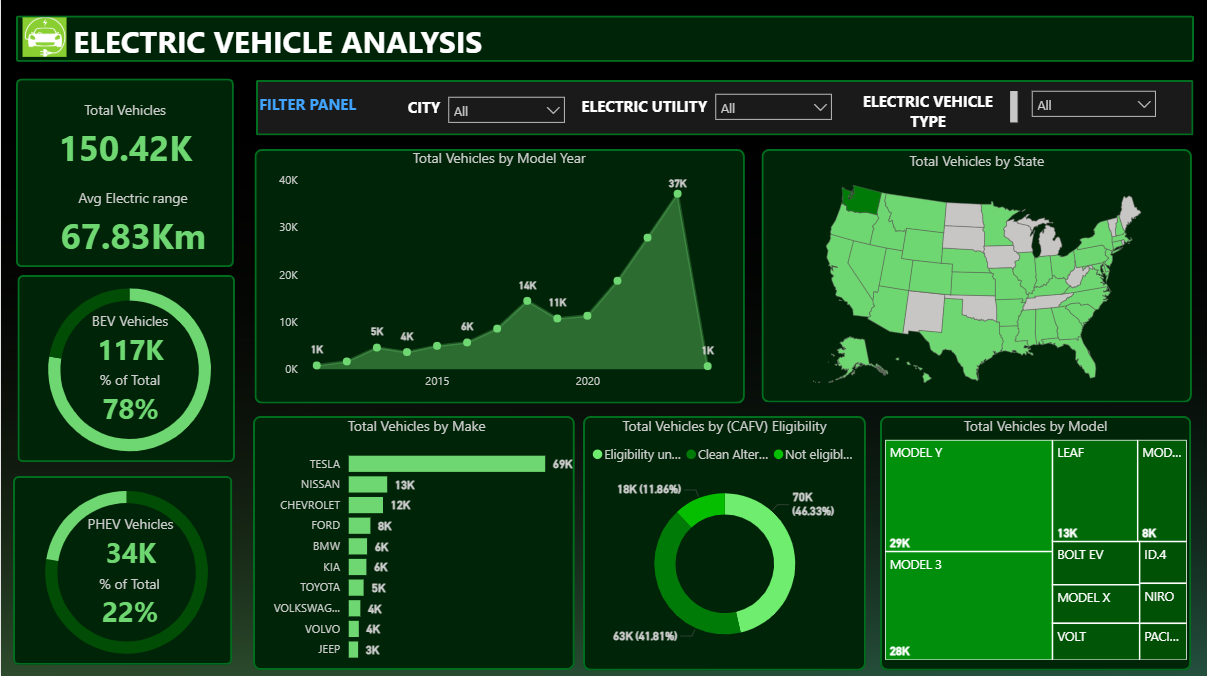

What the dashboard file says about the page in this screenshot:
{"tool":"powerbi","page":{"name":"Page 1","canvas":[1280,720],"ordinal":0},"visuals":[{"type":"shape","box":[15.1,17,1249.1,49.1],"z":0},{"type":"textbox","box":[71.8,17,457.3,54.8],"z":1000},{"type":"shape","box":[15.1,85,231,200],"z":2000},{"type":"card","title":"Total Vehicles","fields":{"Values":["Electric_Vehicle_Population_Data.Total Vehicles"]},"box":[24.6,105.8,215.4,79.4],"z":3000},{"type":"shape","box":[13.2,506.5,232.4,200.3],"z":4000},{"type":"shape","box":[17,292.9,230.6,198.4],"z":5000},{"type":"card","title":"Avg Electric range","fields":{"Values":["Electric_Vehicle_Population_Data.Average Range"]},"box":[39.7,200.3,200.3,79.4],"z":6000},{"type":"donutChart","fields":{"Category":["Electric_Vehicle_Population_Data.Electric Vehicle Type"],"Y":["Electric_Vehicle_Population_Data.Total Vehicles"]},"box":[3.2,279.9,265.6,225.9],"z":7000},{"type":"card","title":"BEV Vehicles","fields":{"Values":["Electric_Vehicle_Population_Data.BEV Vehicles"]},"box":[54.1,330.8,165.4,62],"z":8000},{"type":"card","title":"% of Total","fields":{"Values":["Electric_Vehicle_Population_Data.% of BEV"]},"box":[54.1,392.9,165.4,62],"z":9000},{"type":"donutChart","fields":{"Category":["Electric_Vehicle_Population_Data.Electric Vehicle Type"],"Y":["Electric_Vehicle_Population_Data.Total Vehicles"]},"box":[0,494.7,265.6,225.9],"z":10000},{"type":"card","title":"PHEV Vehicles","fields":{"Values":["Electric_Vehicle_Population_Data.PHEV Vehicles"]},"box":[54.8,546.1,166.3,62.4],"z":11000},{"type":"card","title":"% of Total","fields":{"Values":["Electric_Vehicle_Population_Data.% of PHEV"]},"box":[54.8,608.5,164.4,60.5],"z":12000},{"type":"shape","box":[270.4,86.4,994.1,58.9],"z":13000},{"type":"shape","box":[268.3,158.7,520,270],"z":14000},{"type":"areaChart","fields":{"Category":["Electric_Vehicle_Population_Data.Model Year"],"Y":["Electric_Vehicle_Population_Data.Total Vehicles"]},"box":[290.1,158.1,477.6,265.7],"z":15000},{"type":"shape","box":[806.8,159.7,456.4,268.9],"z":16000},{"type":"shapeMap","fields":{"Category":["Electric_Vehicle_Population_Data.State"],"Value":["Electric_Vehicle_Population_Data.Total Vehicles"]},"box":[806.1,160.6,456.6,262.6],"z":17000},{"type":"shape","box":[267.6,441.5,341.2,269.3],"z":18000},{"type":"barChart","fields":{"Category":["Electric_Vehicle_Population_Data.Make"],"Y":["Electric_Vehicle_Population_Data.Total Vehicles"]},"box":[270,441.4,340.7,270],"z":19000},{"type":"shape","box":[617.1,441.4,300,270],"z":20000},{"type":"donutChart","title":"Total Vehicles by  (CAFV) Eligibility","fields":{"Category":["Electric_Vehicle_Population_Data.Clean Alternative Fuel Vehicle (CAFV) Eligibility"],"Y":["Electric_Vehicle_Population_Data.Total Vehicles"]},"box":[617.1,441.4,300,263.6],"z":21000},{"type":"shape","box":[932.2,441.4,330,270],"z":22000},{"type":"treemap","fields":{"Group":["Electric_Vehicle_Population_Data.Model"],"Values":["Electric_Vehicle_Population_Data.Total Vehicles"]},"box":[932.2,441.4,330,263.6],"z":23000},{"type":"textbox","box":[268.8,95.4,122.5,49.3],"z":24000},{"type":"slicer","fields":{"Values":["Electric_Vehicle_Population_Data.City"]},"box":[463.7,93.2,143.2,47.7],"z":25000},{"type":"textbox","box":[418.7,98.5,60.4,38.2],"z":26000},{"type":"textbox","box":[602.8,96.4,158.7,41.6],"z":27000},{"type":"slicer","fields":{"Values":["Electric_Vehicle_Population_Data.Electric Utility"]},"box":[748.4,90.7,143.6,49.1],"z":28000},{"type":"slicer","fields":{"Values":["Electric_Vehicle_Population_Data.Electric Vehicle Type"]},"box":[1082.8,86.9,151.2,49.1],"z":29000},{"type":"textbox","box":[890.7,92.3,192.5,47.7],"z":30000},{"type":"image","box":[17,13.2,56.7,54.8],"z":31000}]}

Visuals, with their boxes in screenshot pixels (x1, y1, x2, y2), scaled from the page's 1280x720 canvas onto the 1207x676 screenshot:
shape: {"left": 14, "top": 16, "right": 1192, "bottom": 62}
textbox: {"left": 68, "top": 16, "right": 499, "bottom": 67}
shape: {"left": 14, "top": 80, "right": 232, "bottom": 268}
"Total Vehicles" card: {"left": 23, "top": 99, "right": 226, "bottom": 174}
shape: {"left": 12, "top": 476, "right": 232, "bottom": 664}
shape: {"left": 16, "top": 275, "right": 233, "bottom": 461}
"Avg Electric range" card: {"left": 37, "top": 188, "right": 226, "bottom": 263}
donutChart - Electric_Vehicle_Population_Data.Electric Vehicle Type x Electric_Vehicle_Population_Data.Total Vehicles: {"left": 3, "top": 263, "right": 253, "bottom": 475}
"BEV Vehicles" card: {"left": 51, "top": 311, "right": 207, "bottom": 369}
"% of Total" card: {"left": 51, "top": 369, "right": 207, "bottom": 427}
donutChart - Electric_Vehicle_Population_Data.Electric Vehicle Type x Electric_Vehicle_Population_Data.Total Vehicles: {"left": 0, "top": 464, "right": 250, "bottom": 675}
"PHEV Vehicles" card: {"left": 52, "top": 513, "right": 208, "bottom": 571}
"% of Total" card: {"left": 52, "top": 571, "right": 207, "bottom": 628}
shape: {"left": 255, "top": 81, "right": 1192, "bottom": 136}
shape: {"left": 253, "top": 149, "right": 743, "bottom": 403}
areaChart - Electric_Vehicle_Population_Data.Model Year x Electric_Vehicle_Population_Data.Total Vehicles: {"left": 274, "top": 148, "right": 724, "bottom": 398}
shape: {"left": 761, "top": 150, "right": 1191, "bottom": 402}
shapeMap - Electric_Vehicle_Population_Data.State x Electric_Vehicle_Population_Data.Total Vehicles: {"left": 760, "top": 151, "right": 1191, "bottom": 397}
shape: {"left": 252, "top": 415, "right": 574, "bottom": 667}
barChart - Electric_Vehicle_Population_Data.Make x Electric_Vehicle_Population_Data.Total Vehicles: {"left": 255, "top": 414, "right": 576, "bottom": 668}
shape: {"left": 582, "top": 414, "right": 865, "bottom": 668}
"Total Vehicles by  (CAFV) Eligibility" donutChart: {"left": 582, "top": 414, "right": 865, "bottom": 662}
shape: {"left": 879, "top": 414, "right": 1190, "bottom": 668}
treemap - Electric_Vehicle_Population_Data.Model x Electric_Vehicle_Population_Data.Total Vehicles: {"left": 879, "top": 414, "right": 1190, "bottom": 662}
textbox: {"left": 253, "top": 90, "right": 369, "bottom": 136}
slicer - Electric_Vehicle_Population_Data.City: {"left": 437, "top": 88, "right": 572, "bottom": 132}
textbox: {"left": 395, "top": 92, "right": 452, "bottom": 128}
textbox: {"left": 568, "top": 91, "right": 718, "bottom": 130}
slicer - Electric_Vehicle_Population_Data.Electric Utility: {"left": 706, "top": 85, "right": 841, "bottom": 131}
slicer - Electric_Vehicle_Population_Data.Electric Vehicle Type: {"left": 1021, "top": 82, "right": 1164, "bottom": 128}
textbox: {"left": 840, "top": 87, "right": 1021, "bottom": 131}
image: {"left": 16, "top": 12, "right": 69, "bottom": 64}
